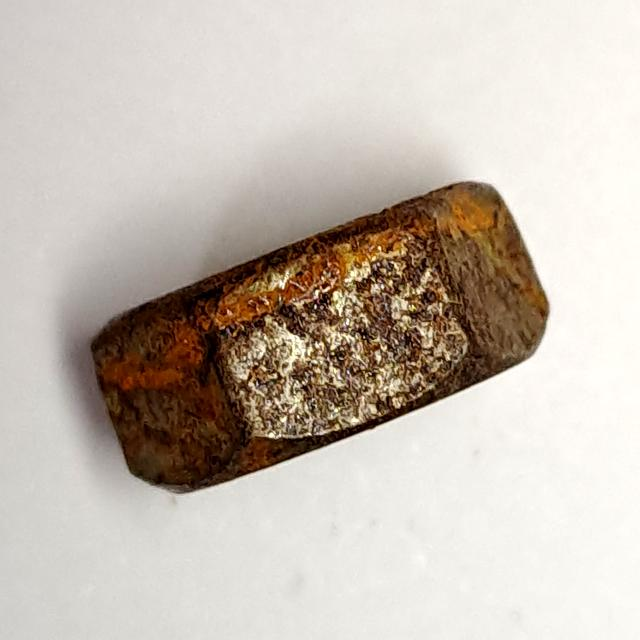Side_Rust: (76, 158, 558, 516)
